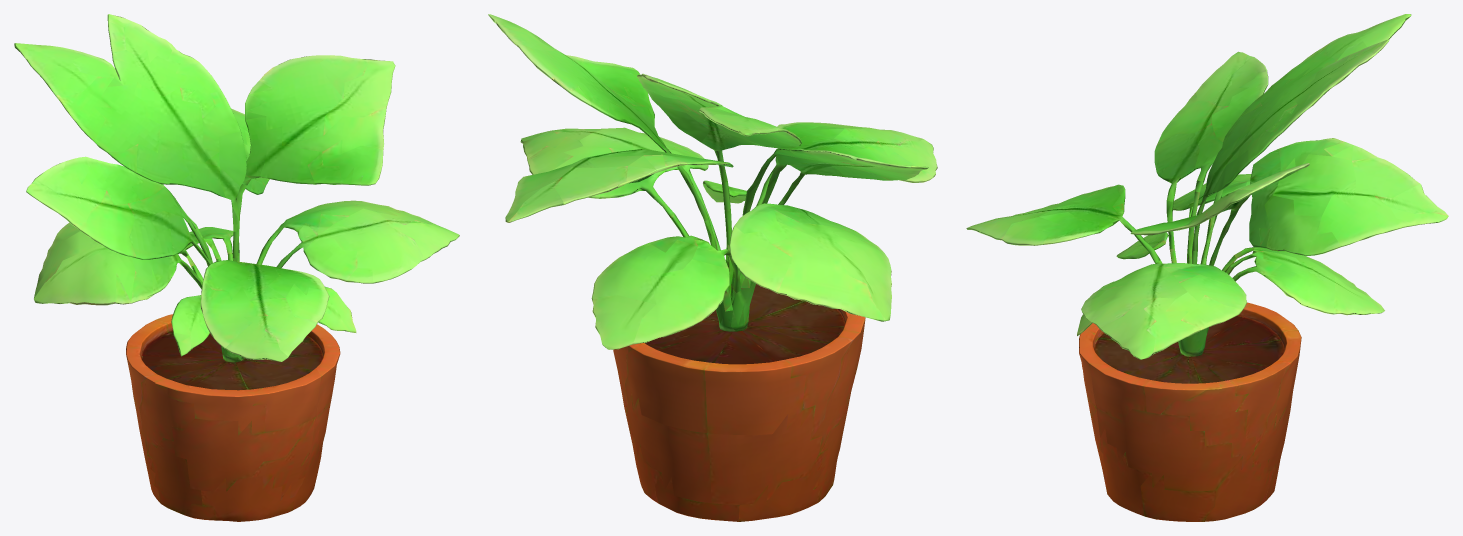
The model's file is planta.glb.
The picture shows the model from 3 angles, left to right: view 1: azimuth 30°, elevation 25°; view 2: azimuth 150°, elevation 25°; view 3: azimuth 270°, elevation 25°; orthographic projection. The views are drawn at different scales.
Bounding box in the file's own units: 1.82 × 1.86 × 1.87.
1 material, 1 textured.
